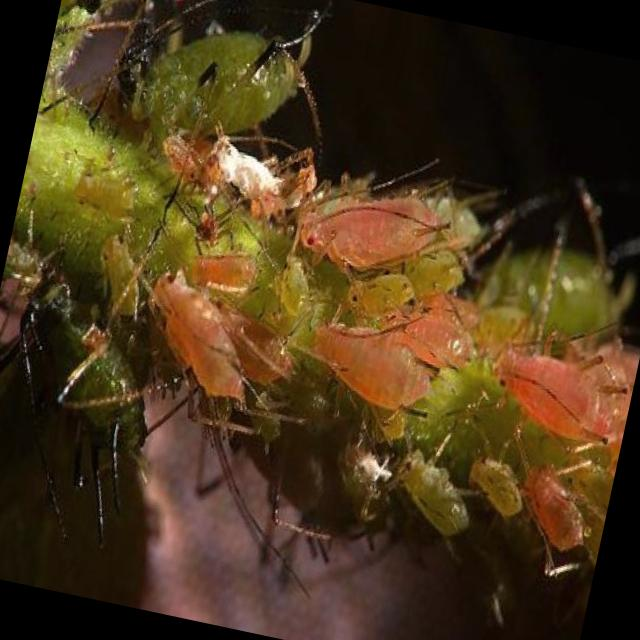aphid: (91, 0, 333, 188), (119, 238, 278, 426), (266, 156, 460, 301), (285, 286, 456, 434), (462, 326, 620, 472)
